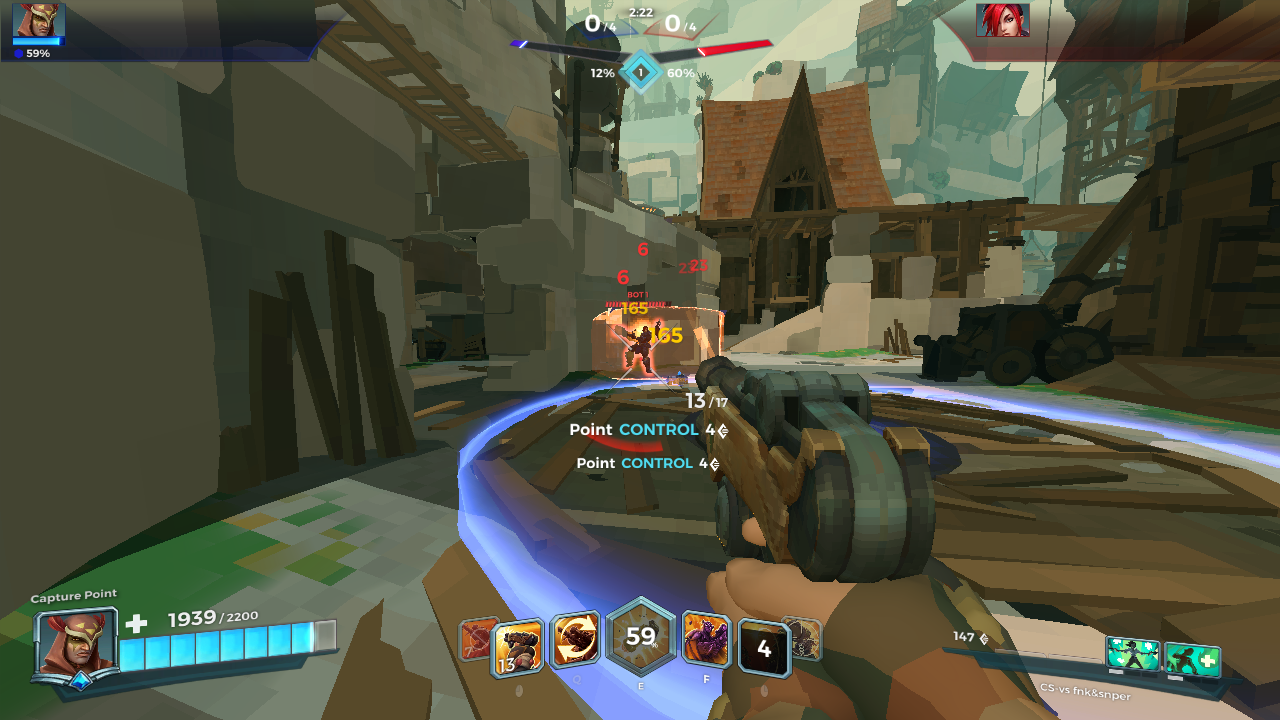model: (608, 316, 666, 375)
